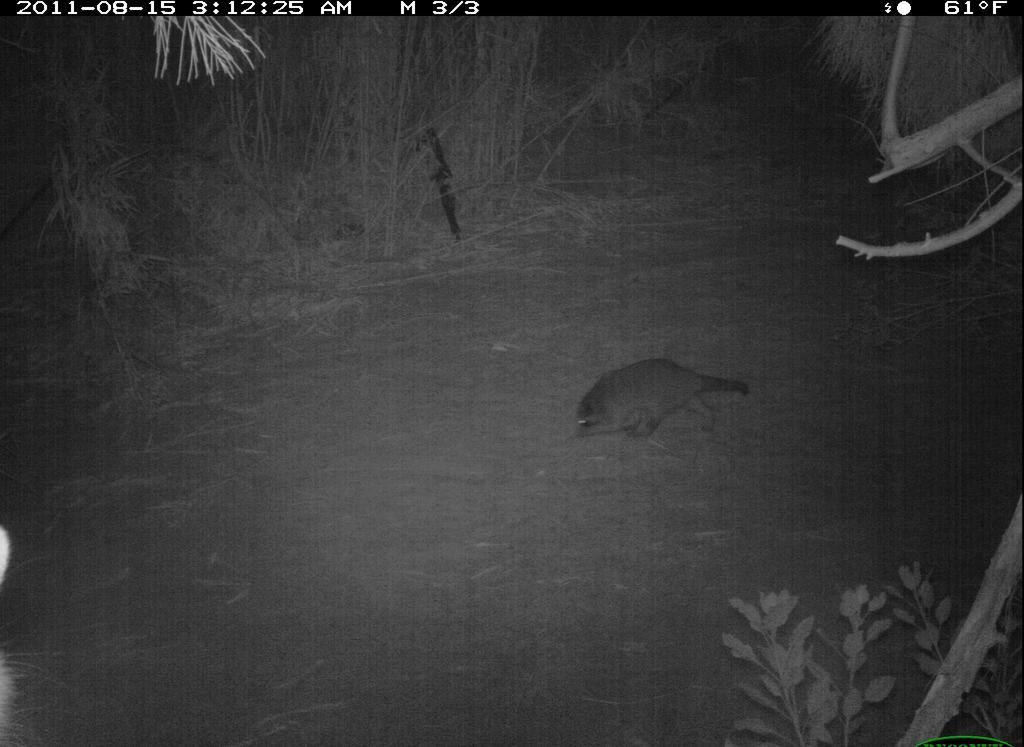raccoon: (552, 353, 757, 454)
